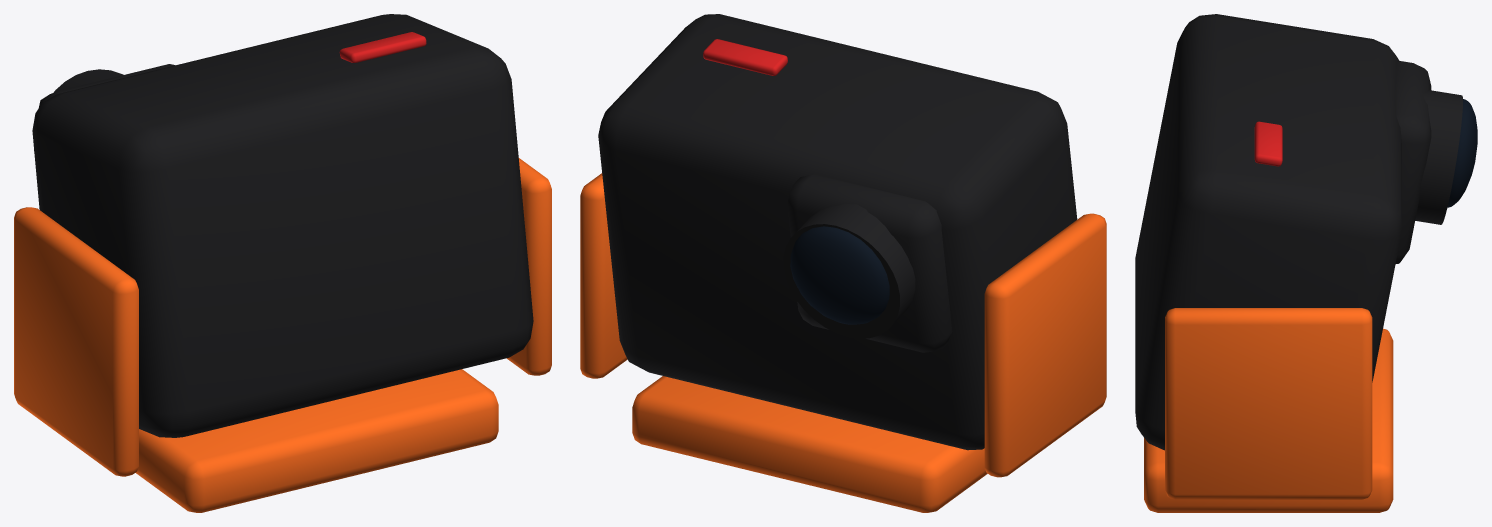
File: actioncam_full.glb
3 views of the same model, side by side, from view 1: azimuth 30°, elevation 25°; view 2: azimuth 150°, elevation 25°; view 3: azimuth 270°, elevation 25° (orthographic). The views are drawn at different scales.
Parts seen in each view (by area): view 1: actioncam_full_M_CamBody, actioncam_full_M_TPU_Orange, actioncam_full_M_RecRed; view 2: actioncam_full_M_CamBody, actioncam_full_M_TPU_Orange, actioncam_full_M_Glass, actioncam_full_M_RecRed; view 3: actioncam_full_M_CamBody, actioncam_full_M_TPU_Orange, actioncam_full_M_Glass, actioncam_full_M_RecRed.
Part boxes in pixels (<box>): actioncam_full_M_CamBody: <box>32,14,533,437</box>; actioncam_full_M_TPU_Orange: <box>14,158,551,512</box>; actioncam_full_M_RecRed: <box>339,32,426,62</box>; actioncam_full_M_CamBody: <box>598,14,1077,450</box>; actioncam_full_M_TPU_Orange: <box>580,173,1106,512</box>; actioncam_full_M_Glass: <box>790,226,889,324</box>; actioncam_full_M_RecRed: <box>703,39,787,75</box>; actioncam_full_M_CamBody: <box>1135,14,1462,450</box>; actioncam_full_M_TPU_Orange: <box>1144,308,1393,512</box>; actioncam_full_M_Glass: <box>1447,99,1477,207</box>; actioncam_full_M_RecRed: <box>1254,121,1282,166</box>.
Size of the model in its own units: 0.07 by 0.0565 by 0.0495.
